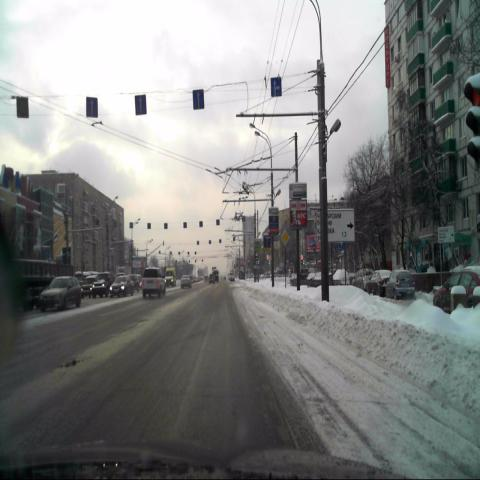5_15_2: (192, 89, 204, 110)
